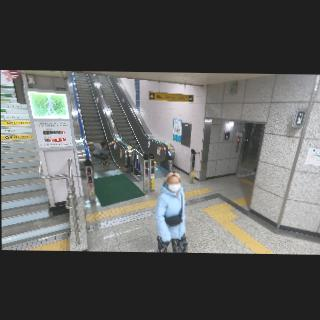anomaly: (81, 138, 120, 169)
normal: (150, 171, 191, 252)
